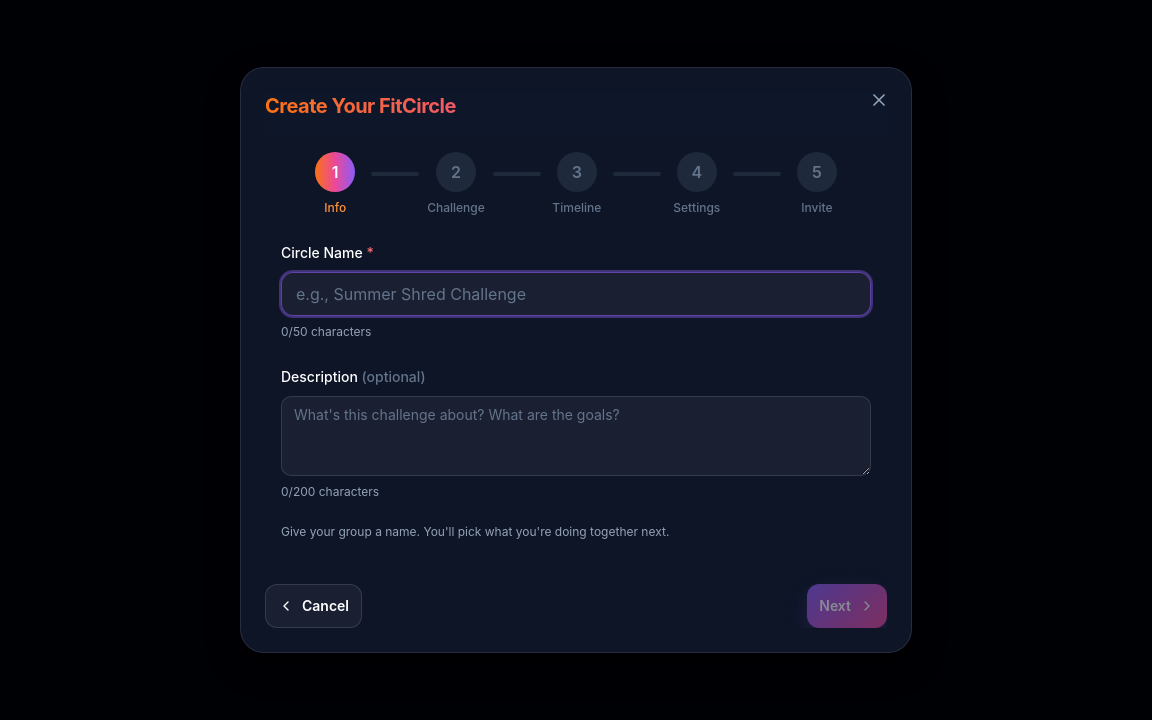
Test: CircleCreationWizard › Step Navigation › should enable Next button when Circle Name is valid
Type "Test Circle" into the field labelled "Circle Name *" at (576, 294), box [281,272,871,316]
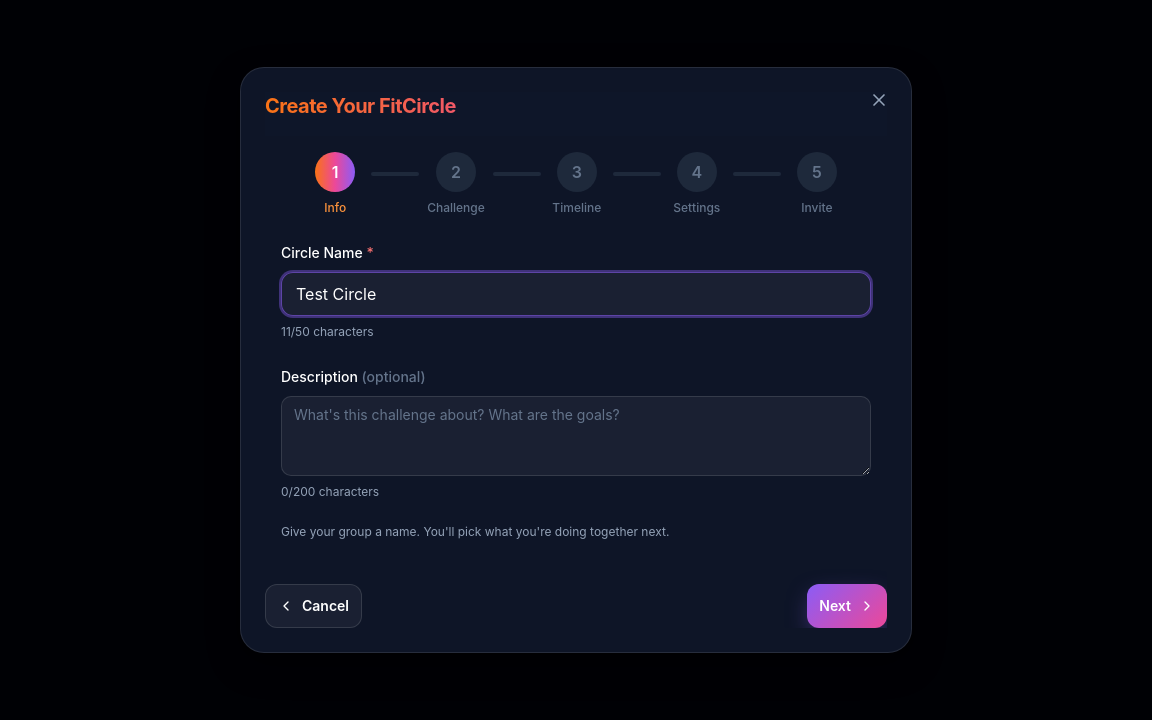
Expected: the button "Next" is enabled, [807,584,887,628]
